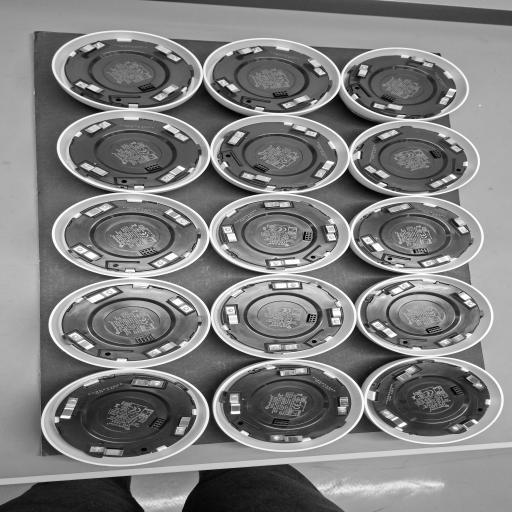konnektor: (148, 417, 166, 429), (138, 80, 154, 92), (134, 335, 155, 344), (271, 418, 291, 427), (448, 385, 464, 396), (253, 163, 271, 172), (138, 248, 158, 256), (144, 164, 162, 172), (381, 94, 398, 102), (271, 90, 290, 97), (306, 313, 318, 324), (430, 148, 443, 158), (426, 326, 442, 334), (413, 247, 428, 254), (304, 230, 313, 240)
yaysiz: (84, 287, 119, 305), (160, 208, 192, 227), (160, 124, 190, 144), (67, 332, 98, 351), (380, 409, 408, 430), (72, 245, 104, 263), (152, 250, 184, 268), (152, 44, 183, 62), (147, 340, 178, 358), (79, 162, 113, 178), (153, 84, 183, 102), (81, 203, 114, 219), (449, 415, 478, 433), (166, 296, 195, 314), (159, 165, 189, 182), (127, 377, 166, 390), (227, 393, 248, 417), (58, 397, 79, 421), (438, 331, 469, 347), (89, 446, 130, 458), (371, 321, 398, 339), (74, 81, 106, 96), (83, 120, 113, 136), (391, 366, 420, 382), (273, 366, 310, 378), (239, 172, 276, 184), (216, 79, 242, 96), (364, 165, 391, 181), (362, 236, 386, 254), (282, 94, 312, 108), (421, 254, 453, 267), (373, 102, 407, 114), (290, 124, 319, 138), (386, 282, 413, 297), (174, 416, 194, 436), (305, 58, 327, 76), (449, 216, 471, 234), (315, 160, 337, 178), (76, 42, 106, 55), (430, 173, 456, 188), (440, 136, 464, 152), (453, 291, 477, 307), (461, 374, 485, 390), (269, 432, 307, 442), (331, 394, 349, 415), (225, 305, 242, 327), (438, 86, 458, 104), (268, 342, 304, 352), (226, 130, 247, 147), (257, 200, 292, 210), (406, 56, 435, 68), (374, 130, 398, 144), (384, 203, 412, 215), (222, 226, 239, 245), (322, 222, 338, 242), (234, 46, 264, 56), (354, 64, 371, 80), (329, 307, 343, 326), (267, 282, 300, 290), (268, 258, 305, 265)
